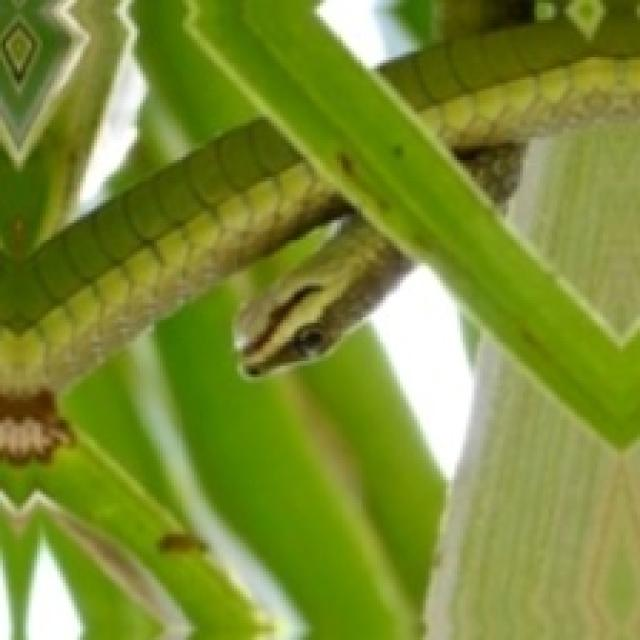paradise tree snake: (0, 120, 409, 391), (380, 19, 640, 201)
